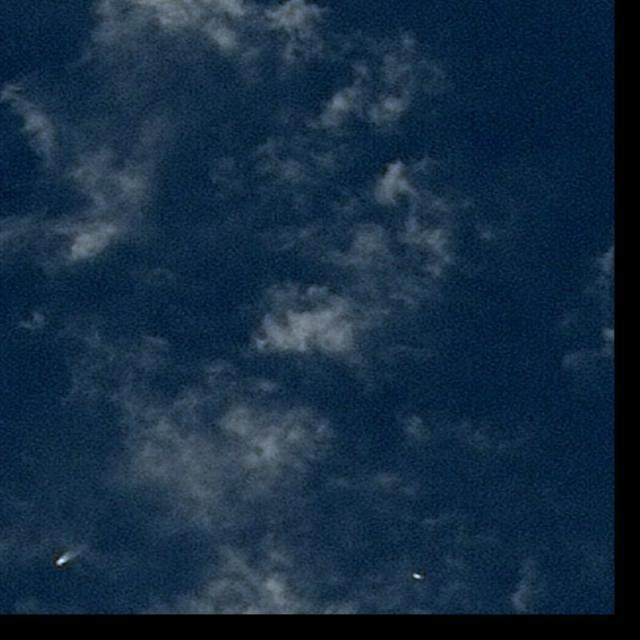ship: (411, 573, 422, 581), (56, 559, 65, 567)
